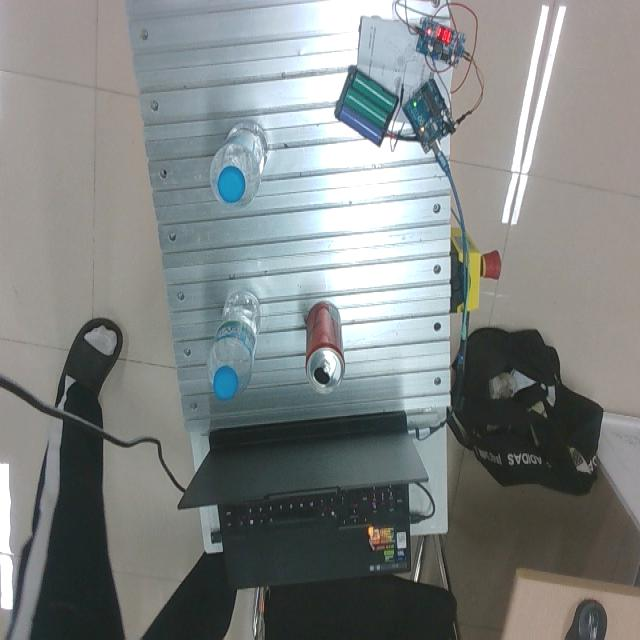coca: (305, 301, 346, 396)
lavie: (208, 291, 262, 400), (210, 123, 270, 209)
